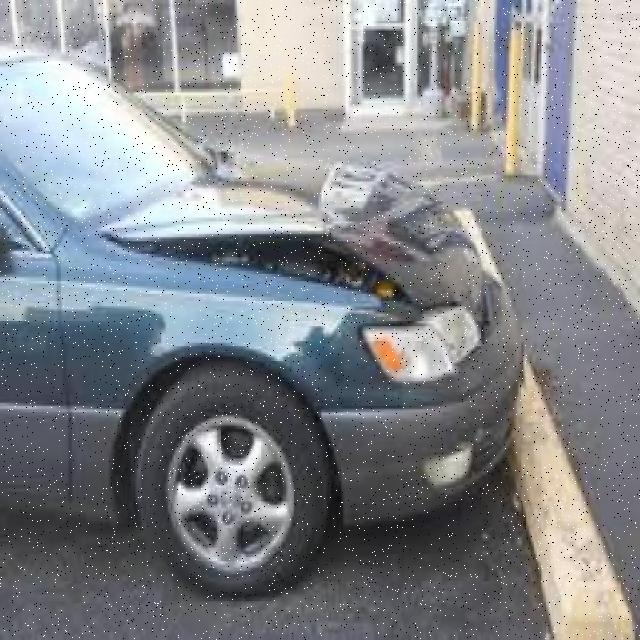damage: (98, 231, 413, 308), (449, 223, 498, 332)
